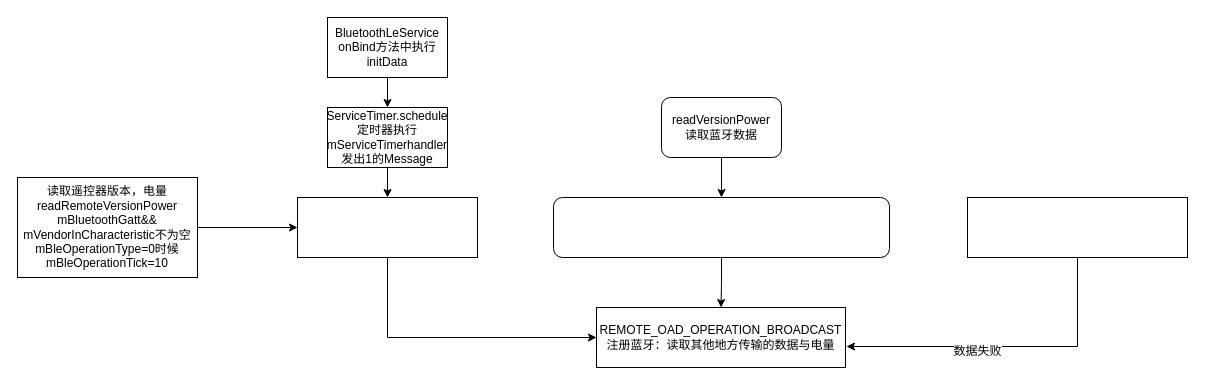
Image size: 1205x385. Some labels were removed from this diagram. The shapes that lost their labels are listed below. From the top down, each one's box as (x1, y1, x2, y2) in pixels, then its label:
(296, 196, 478, 258): bluetoothTimerTickHandle 版本电量的读取命令下发与接收
(552, 196, 890, 258): readVersionPower(final long timeout, ReadVersionPowerCallback callback) 回调
(966, 196, 1188, 258): ACTION_ACL_DISCONNECTED 蓝牙断掉 mBluetoothLeService.close() callbackFail
